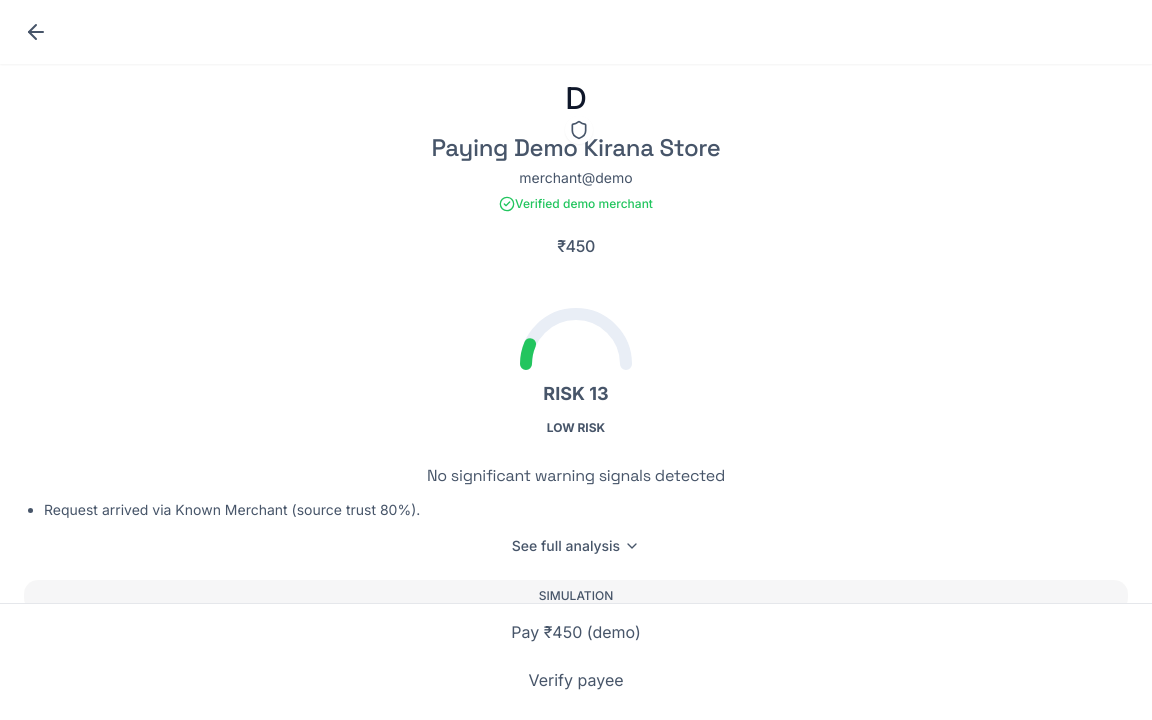
Pay Screen › shows payment confirm sheet for legit merchant
Click the button "Pay ₹450 (demo)".
click(576, 632)  # box [16,620,1136,644]
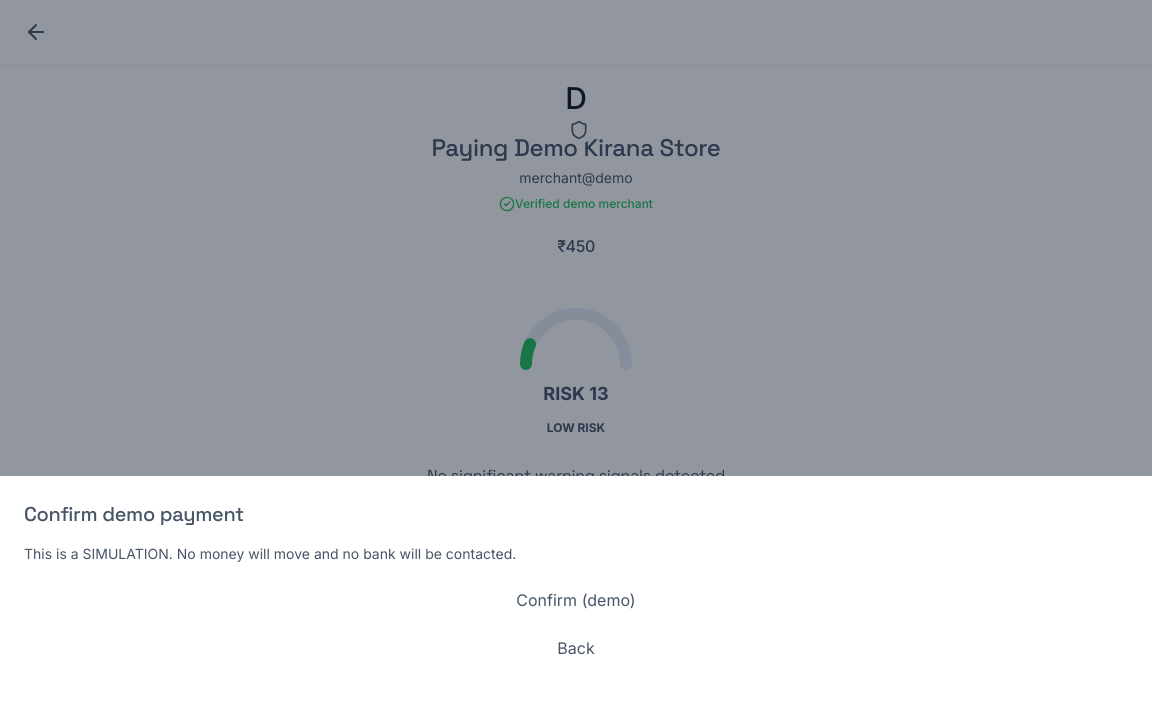
Expected: the dialog "Confirm demo payment" is shown, [0,476,1151,719]
